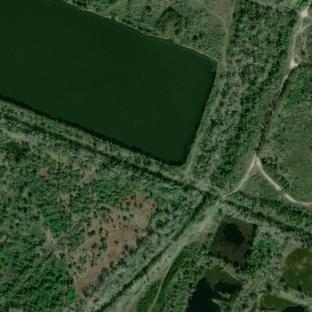Floresta: (190, 0, 298, 188), (154, 195, 312, 311), (0, 130, 88, 312), (258, 66, 312, 200)
